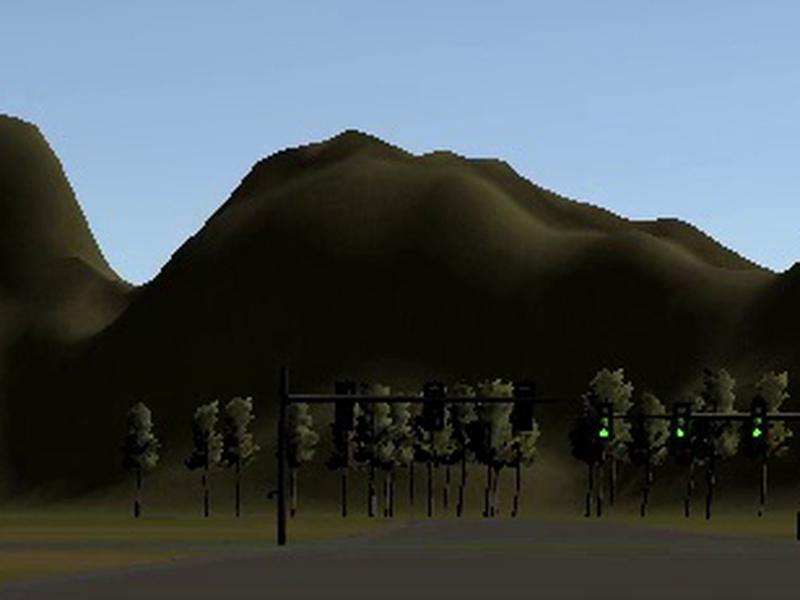Green: (597, 402, 613, 442), (673, 402, 688, 442), (751, 402, 766, 442)
